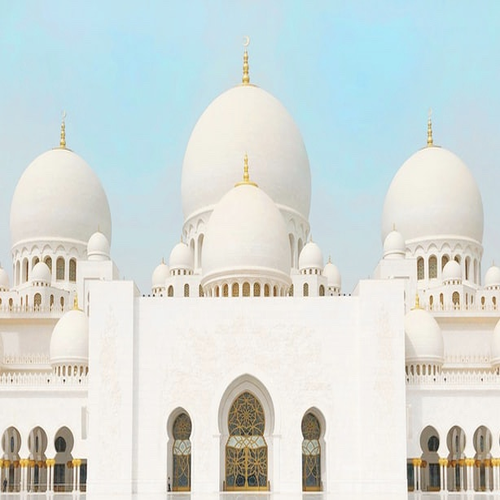Mosque: (6, 44, 491, 475)
